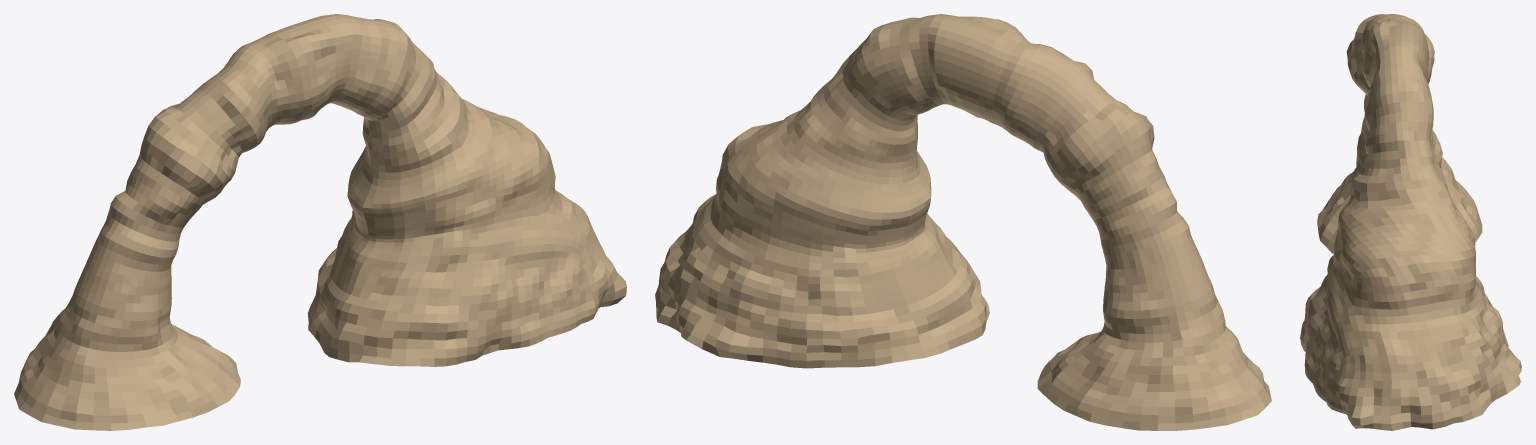
File: Arch.fbx
3 renders of one model, left to right at view 1: azimuth 30°, elevation 25°; view 2: azimuth 150°, elevation 25°; view 3: azimuth 270°, elevation 25°, orthographic. The views are drawn at different scales.
Visible parts, largest first — view 1: arch_Zbrush:Group17870; view 2: arch_Zbrush:Group17870; view 3: arch_Zbrush:Group17870.
Part boxes in pixels (x1,y1,x2,y2): arch_Zbrush:Group17870: [14, 14, 626, 430]; arch_Zbrush:Group17870: [655, 14, 1271, 430]; arch_Zbrush:Group17870: [1300, 14, 1521, 430].
Bounding box in the file's own units: 8.76 × 4.74 × 3.4.
